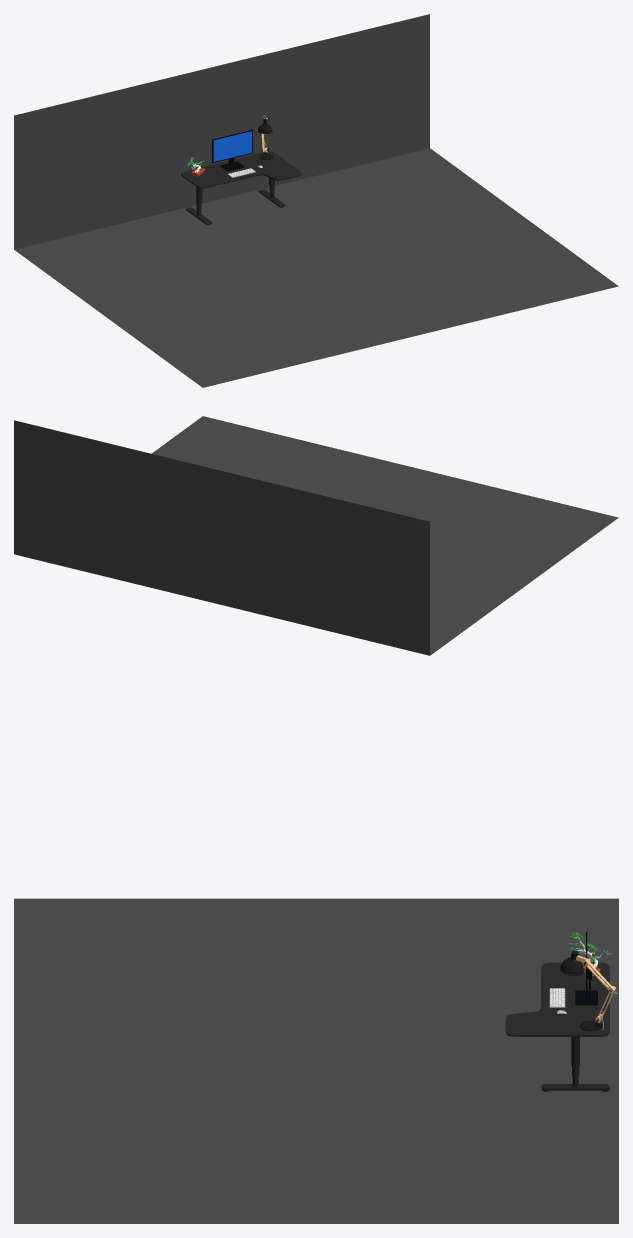
Rendered from main.glb.
3 views of the same model, one above another, from view 1: azimuth 30°, elevation 25°; view 2: azimuth 150°, elevation 25°; view 3: azimuth 270°, elevation 25° (orthographic). The views are drawn at different scales.
Parts seen in each view (by area): view 1: Plane, Cylinder.013, Monitor1; view 2: Plane; view 3: Plane, Cylinder.013, group1054111511.
Boxes of the visible parts, <box> form: Plane: <box>14,14,618,387</box>; Cylinder.013: <box>181,151,301,225</box>; Monitor1: <box>212,129,252,171</box>; Plane: <box>14,416,618,655</box>; Plane: <box>14,898,618,1223</box>; Cylinder.013: <box>505,962,609,1091</box>; group1054111511: <box>560,948,617,1031</box>.
Bounding box in the file's own units: 10.43 × 3.21 × 8.2.
21 materials, 1 textured.
